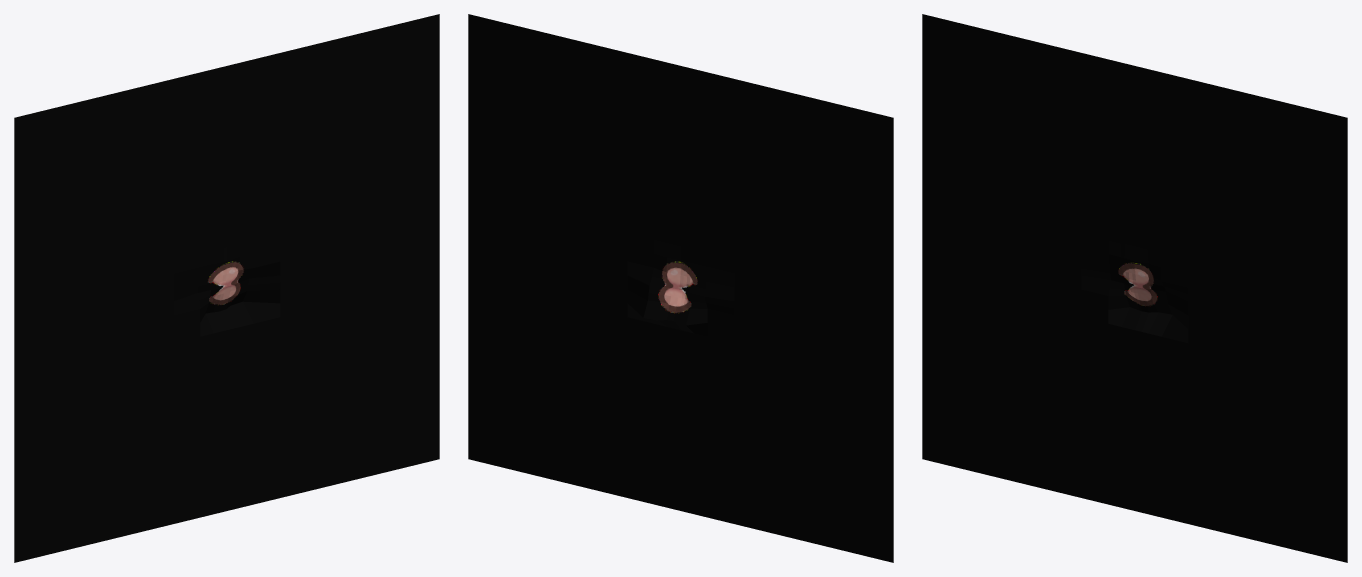
The model's file is mouth_pucker.glb.
3 renders of one model, left to right at view 1: azimuth 30°, elevation 25°; view 2: azimuth 150°, elevation 25°; view 3: azimuth 330°, elevation 25°, orthographic.
Parts seen in each view (by area): view 1: mouth_pucker; view 2: mouth_pucker; view 3: mouth_pucker.
Boxes of the visible parts, box(x1,y1,x2,y2) form: mouth_pucker: box(14, 14, 439, 562); mouth_pucker: box(468, 14, 893, 562); mouth_pucker: box(922, 14, 1347, 562).
Bounding box in the file's own units: 0.5262 × 0.5262 × 0.0249.
Materials: 1 (1 with a texture image).
